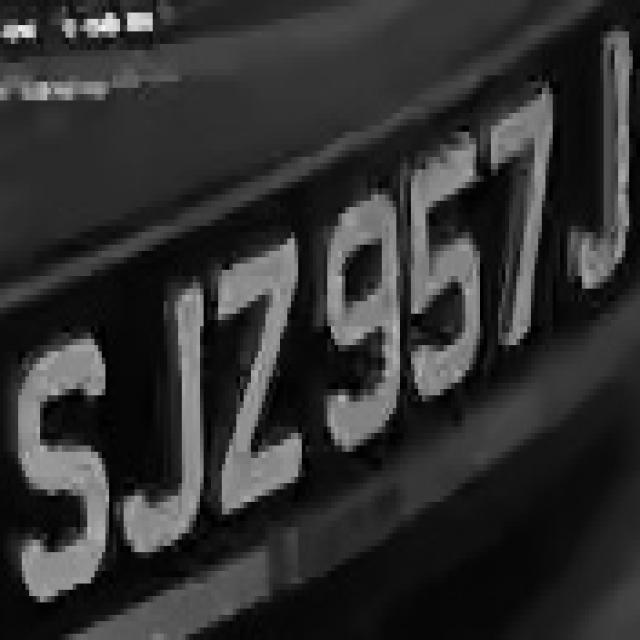5: (400, 132, 487, 420)
7: (469, 81, 553, 358)
9: (309, 175, 411, 470)
J: (105, 276, 211, 577), (552, 6, 640, 294)
S: (11, 314, 127, 608)
Z: (197, 244, 306, 520)
